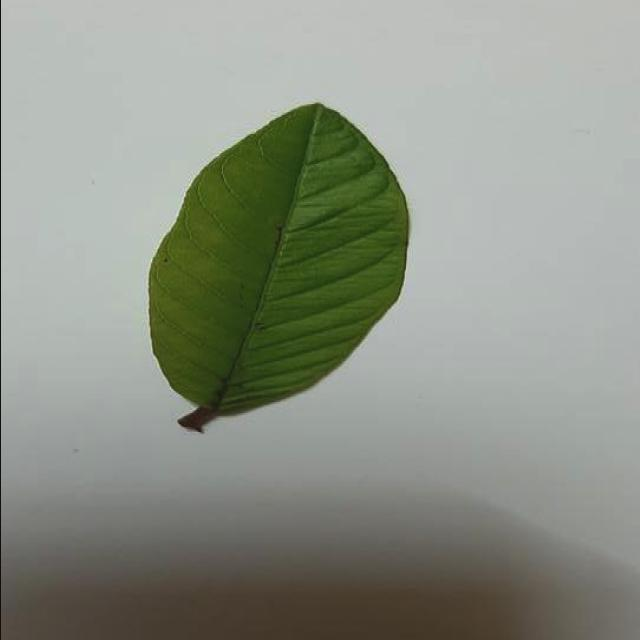leaf: (147, 101, 410, 432)
